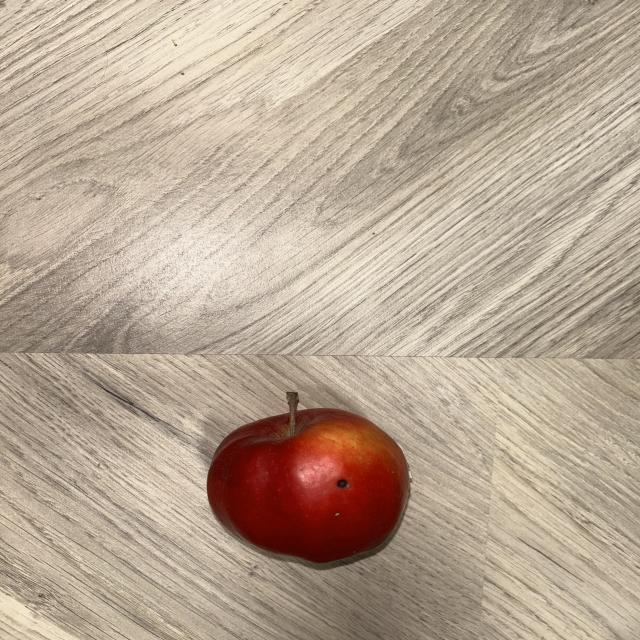apple: (207, 391, 410, 562)
